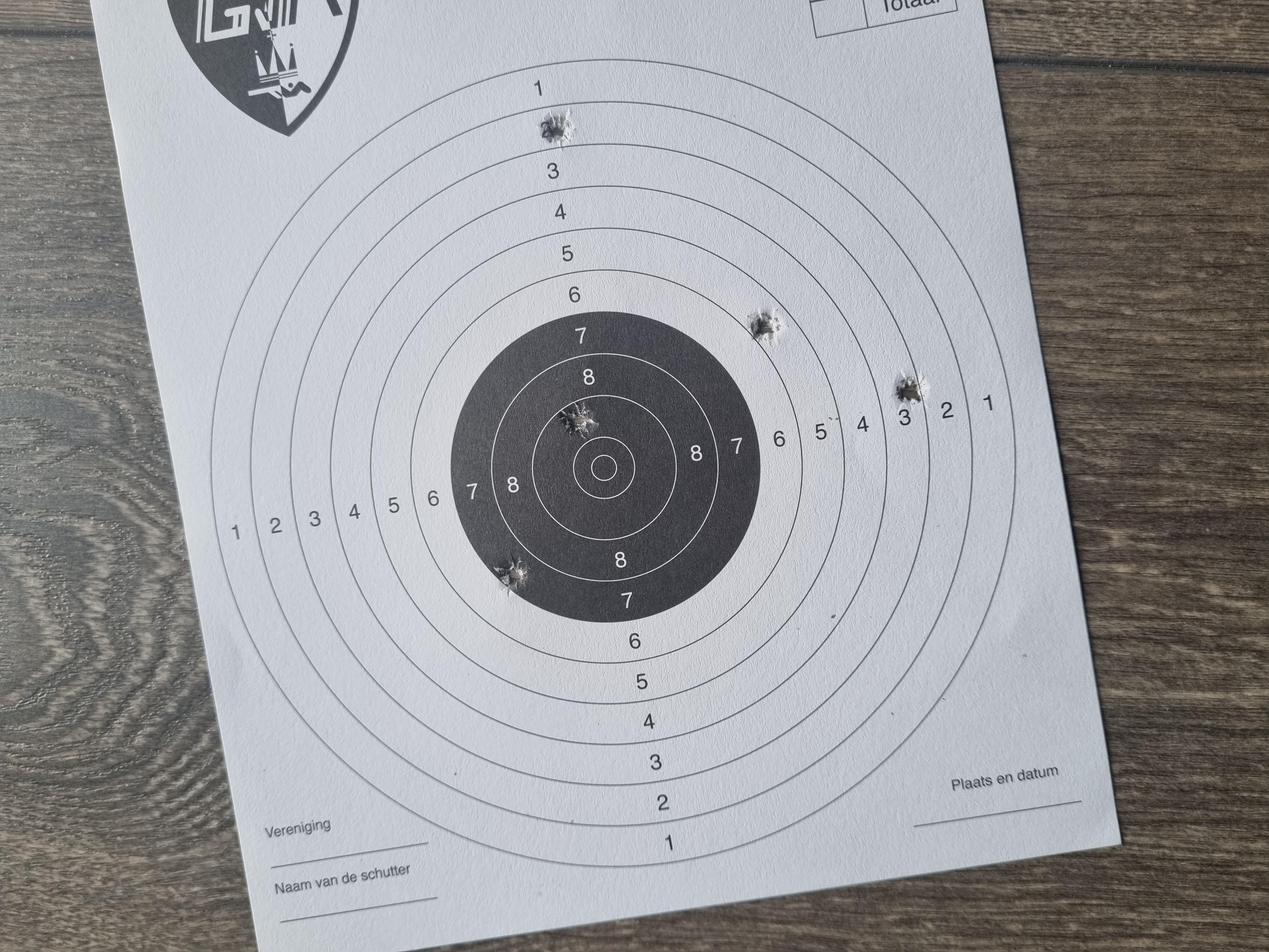hole: (809, 558, 862, 590), (1064, 405, 1121, 433), (687, 417, 733, 451), (474, 371, 526, 400), (720, 668, 771, 696)
